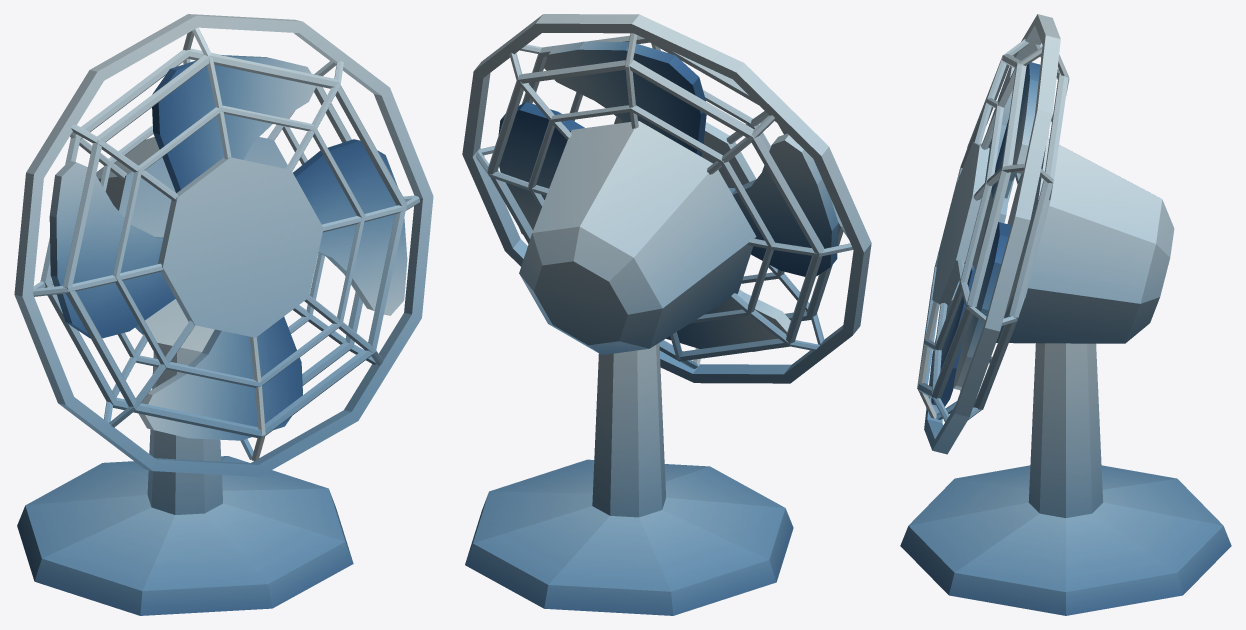
File: SM_smallFan.fbx
The picture shows the model from 3 angles, left to right: view 1: azimuth 30°, elevation 25°; view 2: azimuth 150°, elevation 25°; view 3: azimuth 270°, elevation 25°; orthographic projection. The views are drawn at different scales.
Visible parts, largest first — view 1: tablefan; view 2: tablefan; view 3: tablefan.
Part boxes in pixels (bbox=[...]): tablefan: bbox=[14, 14, 433, 615]; tablefan: bbox=[462, 14, 871, 615]; tablefan: bbox=[900, 14, 1231, 615].
Bounding box in the file's own units: 354 × 444 × 260.
